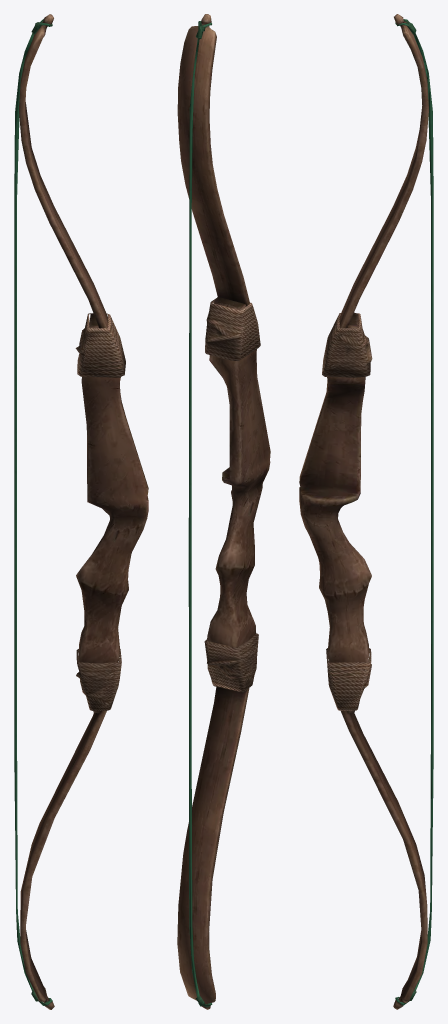
The model's file is bow.static.glb.
3 renders of one model, left to right at view 1: azimuth 90°, elevation 25°; view 2: azimuth 150°, elevation 25°; view 3: azimuth 270°, elevation 25°, orthographic.
Parts seen in each view (by area): view 1: bow.static; view 2: bow.static; view 3: bow.static.
Boxes of the visible parts, <box> form: bow.static: <box>14,14,148,1009</box>; bow.static: <box>177,14,270,1009</box>; bow.static: <box>299,14,433,1009</box>.
Size of the model in its own units: 0.0534 by 1.26 by 0.1542.
Materials: 1 (1 with a texture image).
